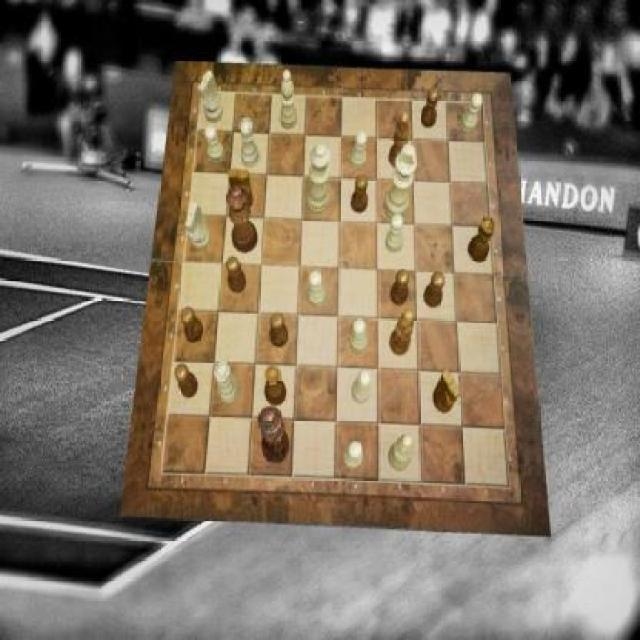bishop: (389, 111, 410, 168), (389, 310, 414, 356)
black-bishop: (258, 406, 291, 464)
black-king: (434, 369, 461, 413), (229, 168, 254, 210)
black-knight: (176, 363, 200, 398), (423, 272, 445, 308), (181, 308, 204, 342), (422, 88, 441, 128), (226, 257, 246, 293), (391, 270, 411, 306), (351, 175, 368, 213), (270, 312, 288, 347)
black-pawn: (226, 186, 259, 254)
black-queen: (469, 217, 497, 263), (265, 365, 287, 406)
black-rook: (280, 71, 298, 131), (388, 434, 414, 471)
white-bishop: (384, 143, 418, 221)
white-king: (197, 71, 223, 123), (184, 202, 210, 250)
white-knight: (461, 94, 484, 134), (206, 125, 226, 162), (352, 369, 372, 404), (386, 214, 404, 252), (350, 131, 368, 169), (308, 269, 325, 307), (351, 318, 368, 354), (343, 443, 363, 471)
white-pawn: (306, 144, 331, 213)
white-queen: (214, 361, 238, 404), (240, 117, 260, 168)
